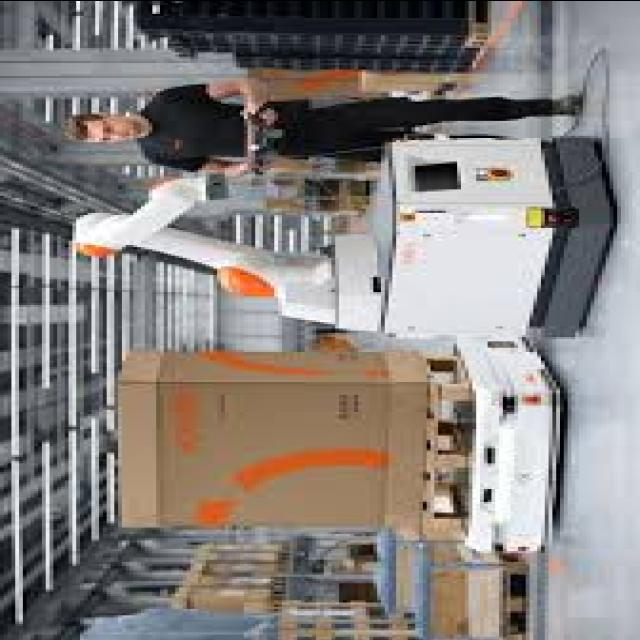Robotic-arm: (61, 170, 370, 328)
